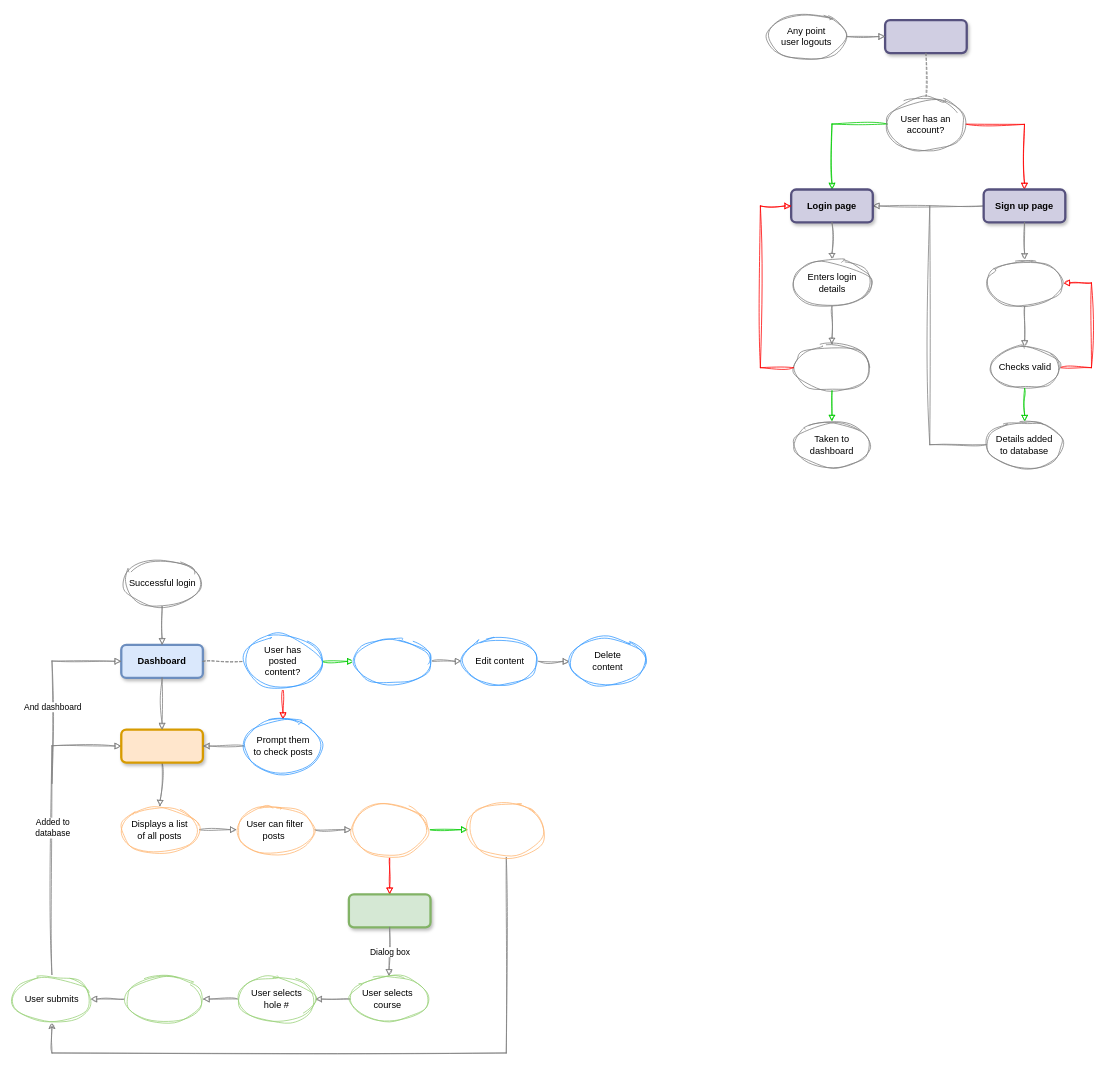
Some shapes in this 1111 by 1073 pixel diagram are drawn without their labels. Each missing label, with the centre of its shape:
"Authenticates" goes at (831,367).
"Browse content" goes at (392,660).
"Create post" goes at (390,911).
"Disc you found/lost listed?" goes at (389,829).
"Great! Add a comment" goes at (506,829).
"Landing page" goes at (926,37).
"Registers details" goes at (1024,282).
"User uploads disc image" goes at (164,998).
"View posts" goes at (162,747).
